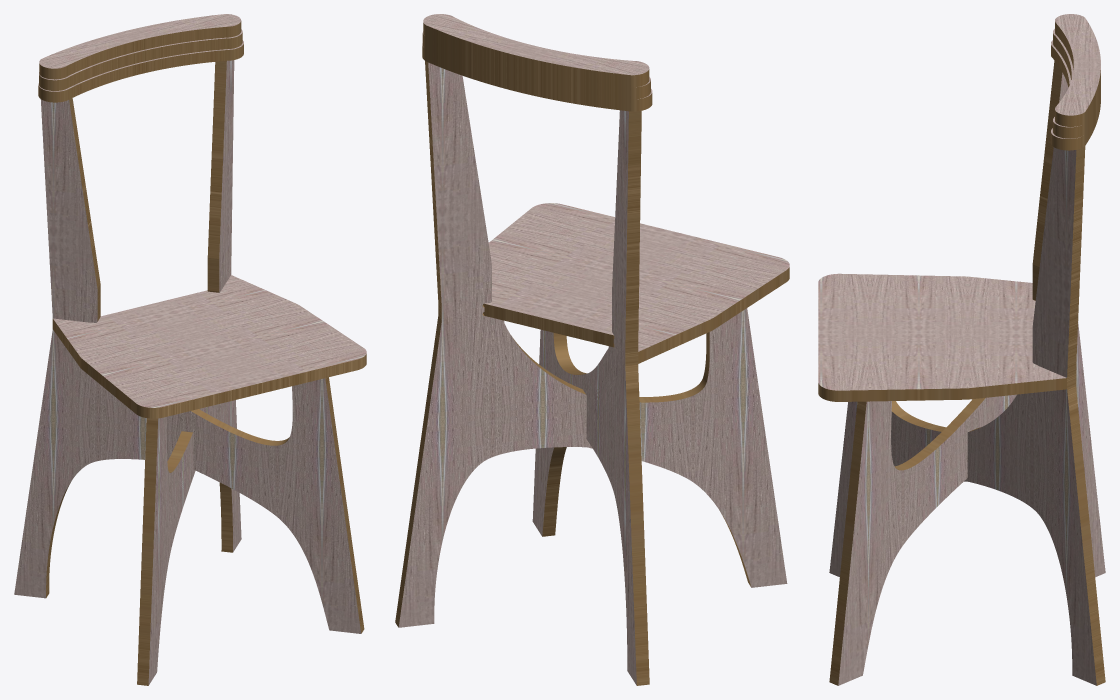
Rendered from NODO_SILLA_CRUZ_PARAISO_V2_RESPALDO_CORREGIDO.glb.
3 renders of one model, left to right at view 1: azimuth 30°, elevation 25°; view 2: azimuth 150°, elevation 25°; view 3: azimuth 270°, elevation 25°, orthographic. The views are drawn at different scales.
Parts seen in each view (by area): view 1: Lateral_2, Asiento, Lateral_1, Respaldo_3, Respaldo_1, Respaldo_2; view 2: Lateral_1, Asiento, Lateral_2, Respaldo_3, Respaldo_1, Respaldo_2; view 3: Lateral_1, Asiento, Lateral_2, Respaldo_3, Respaldo_1, Respaldo_2.
Boxes of the visible parts, x1,y1,x2,y2 form: Lateral_2: (14, 98, 364, 633); Asiento: (52, 275, 366, 418); Lateral_1: (137, 60, 241, 685); Respaldo_3: (39, 14, 241, 79); Respaldo_1: (38, 40, 243, 102); Respaldo_2: (39, 29, 242, 90); Lateral_1: (395, 61, 787, 627); Asiento: (483, 203, 789, 363); Lateral_2: (532, 110, 649, 685); Respaldo_3: (423, 14, 649, 87); Respaldo_1: (422, 43, 652, 111); Respaldo_2: (422, 31, 650, 99); Lateral_1: (829, 146, 1105, 685); Asiento: (818, 273, 1066, 401); Lateral_2: (829, 60, 1105, 685); Respaldo_3: (1055, 14, 1100, 126); Respaldo_1: (1051, 40, 1100, 150); Respaldo_2: (1053, 29, 1100, 138).
Bounding box in the file's own units: 0.3971 × 0.8916 × 0.4127.
2 materials, 2 textured.
